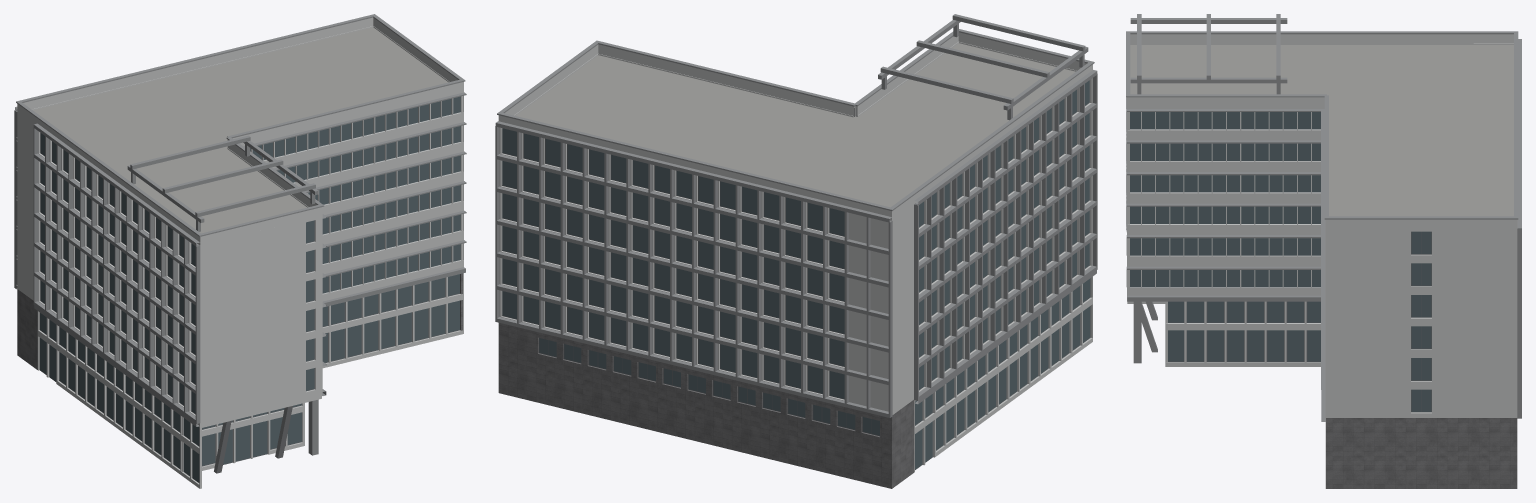
3 views of the same model, side by side, from view 1: azimuth 30°, elevation 25°; view 2: azimuth 150°, elevation 25°; view 3: azimuth 270°, elevation 25° (orthographic). The views are drawn at different scales.
Visible parts, largest first — view 1: cyber__panel, cyber__glass, cyber__fin, cyber__roof, cyber__frame, cyber__granite; view 2: cyber__fin, cyber__glass, cyber__panel, cyber__roof, cyber__granite, cyber__frame; view 3: cyber__panel, cyber__roof, cyber__glass, cyber__fin, cyber__granite, cyber__frame.
Part boxes in pixels (<box>): cyber__panel: <box>17,17,463,488</box>; cyber__glass: <box>40,96,460,482</box>; cyber__fin: <box>14,14,466,473</box>; cyber__roof: <box>33,27,448,233</box>; cyber__frame: <box>39,133,459,482</box>; cyber__granite: <box>17,273,462,369</box>; cyber__fin: <box>495,14,1097,417</box>; cyber__glass: <box>502,80,1090,469</box>; cyber__panel: <box>498,32,1092,472</box>; cyber__roof: <box>516,43,1075,207</box>; cyber__granite: <box>498,322,914,488</box>; cyber__frame: <box>502,99,1090,469</box>; cyber__panel: <box>1127,34,1517,488</box>; cyber__roof: <box>1130,45,1513,216</box>; cyber__glass: <box>1130,112,1431,411</box>; cyber__fin: <box>1126,14,1521,421</box>; cyber__granite: <box>1326,418,1517,488</box>; cyber__frame: <box>1126,98,1431,412</box>.
Bounding box in the file's own units: 51.25 × 36.75 × 45.47.
Materials: 6 (1 with a texture image).
